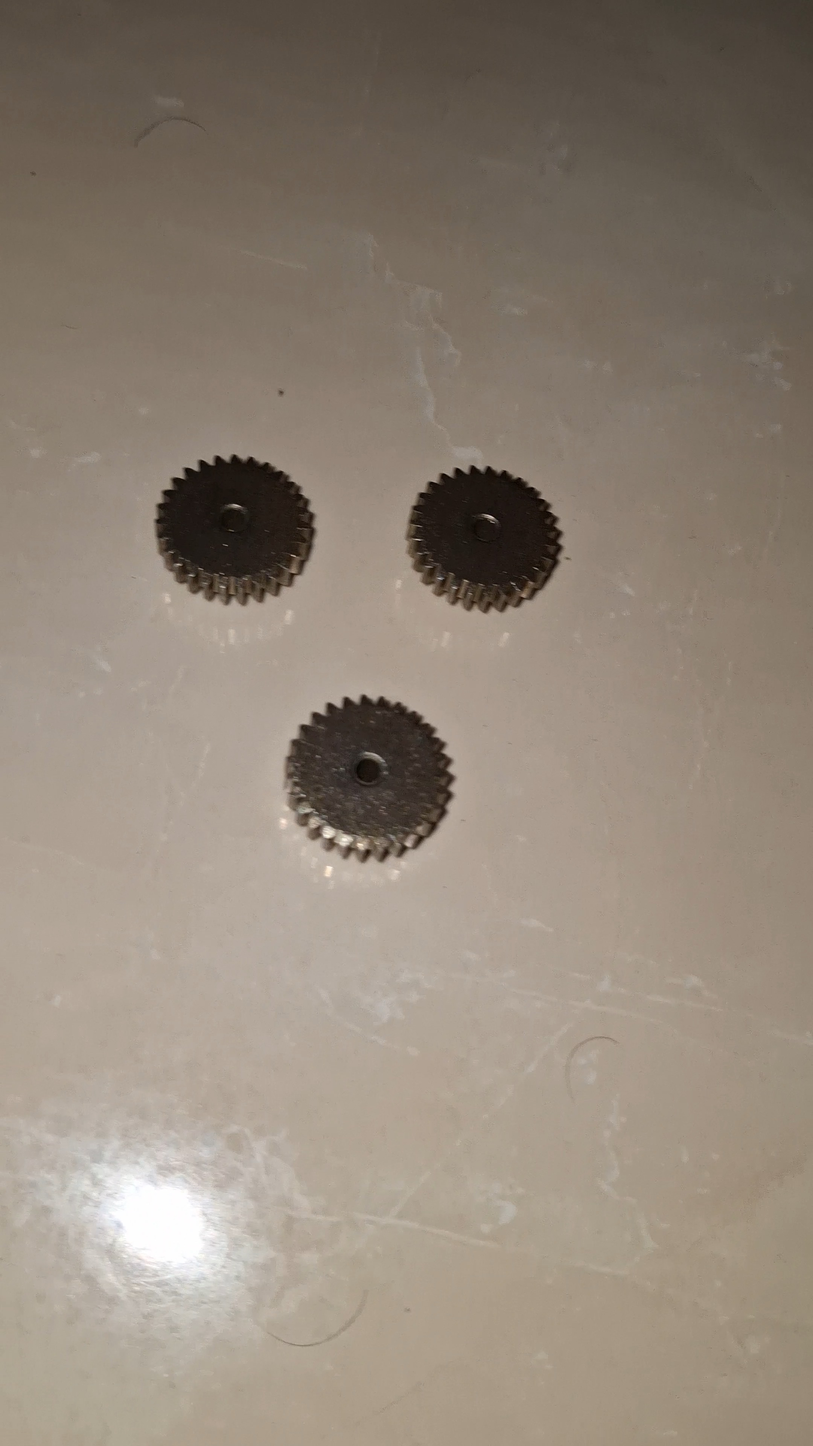spur gear: (287, 696, 452, 859), (156, 456, 313, 603), (407, 468, 560, 611)
